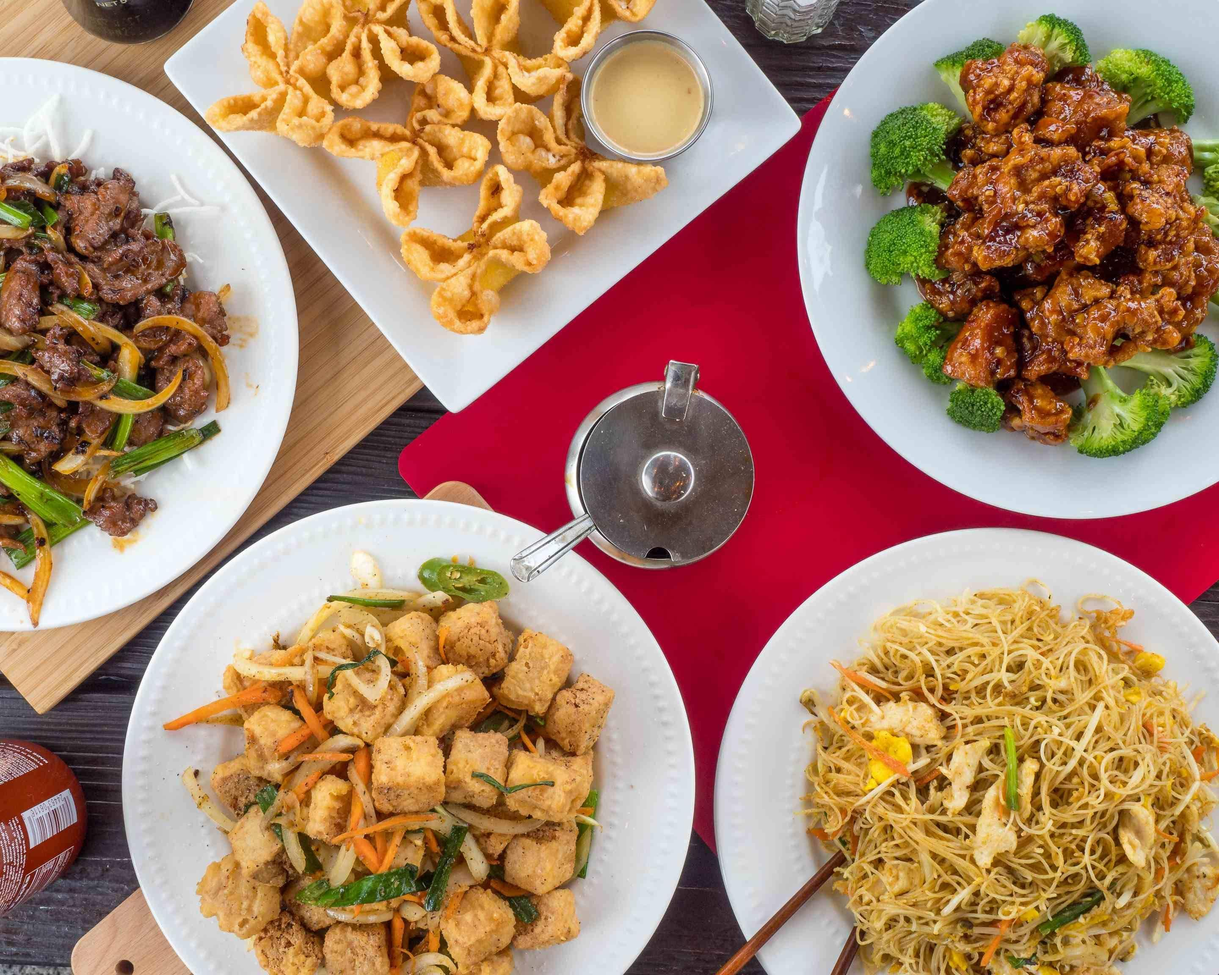Braised Crucian Carp: (108, 528, 673, 975), (714, 556, 1219, 975), (173, 0, 764, 358), (815, 2, 1219, 521), (0, 56, 301, 634)
